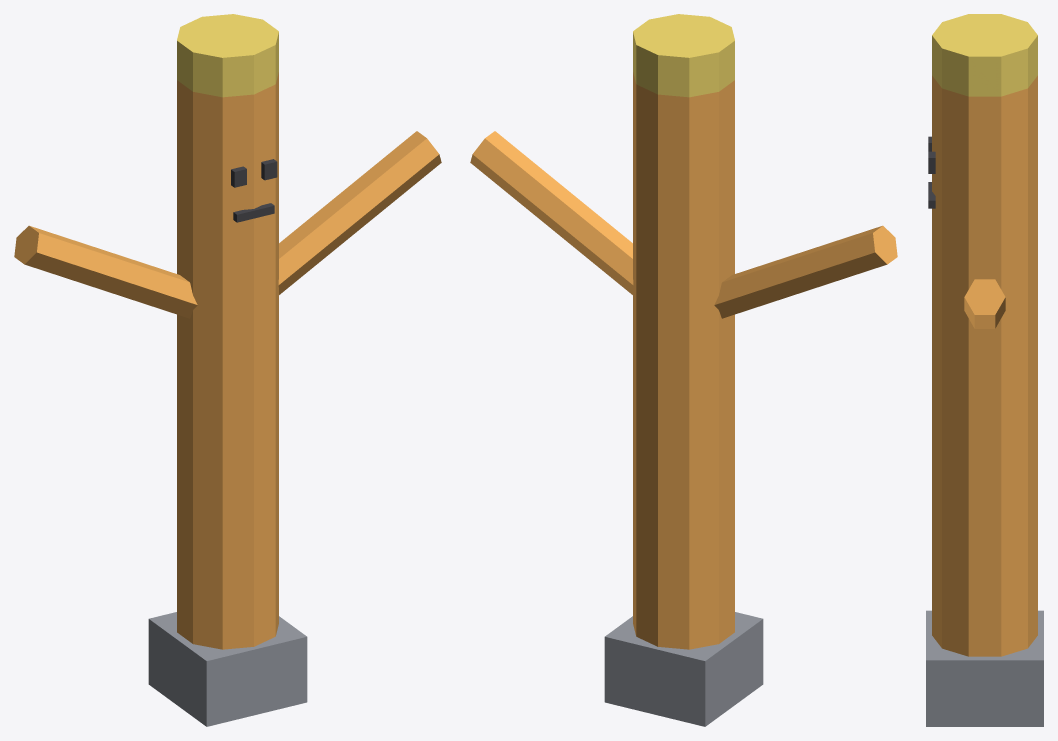
File: tube_man.glb
3 views of the same model, side by side, from view 1: azimuth 30°, elevation 25°; view 2: azimuth 150°, elevation 25°; view 3: azimuth 270°, elevation 25° (orthographic).
Parts seen in each view (by area): view 1: tube_man; view 2: tube_man; view 3: tube_man.
Part boxes in pixels (x1=…): tube_man: x1=14, y1=14, x2=441, y2=726; tube_man: x1=470, y1=14, x2=897, y2=726; tube_man: x1=926, y1=14, x2=1043, y2=726.
Bounding box in the file's own units: 3.32 × 5 × 0.8.
